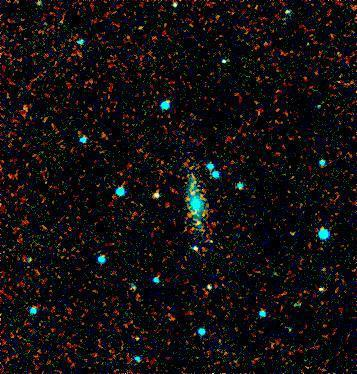star: (13, 92, 43, 122)
